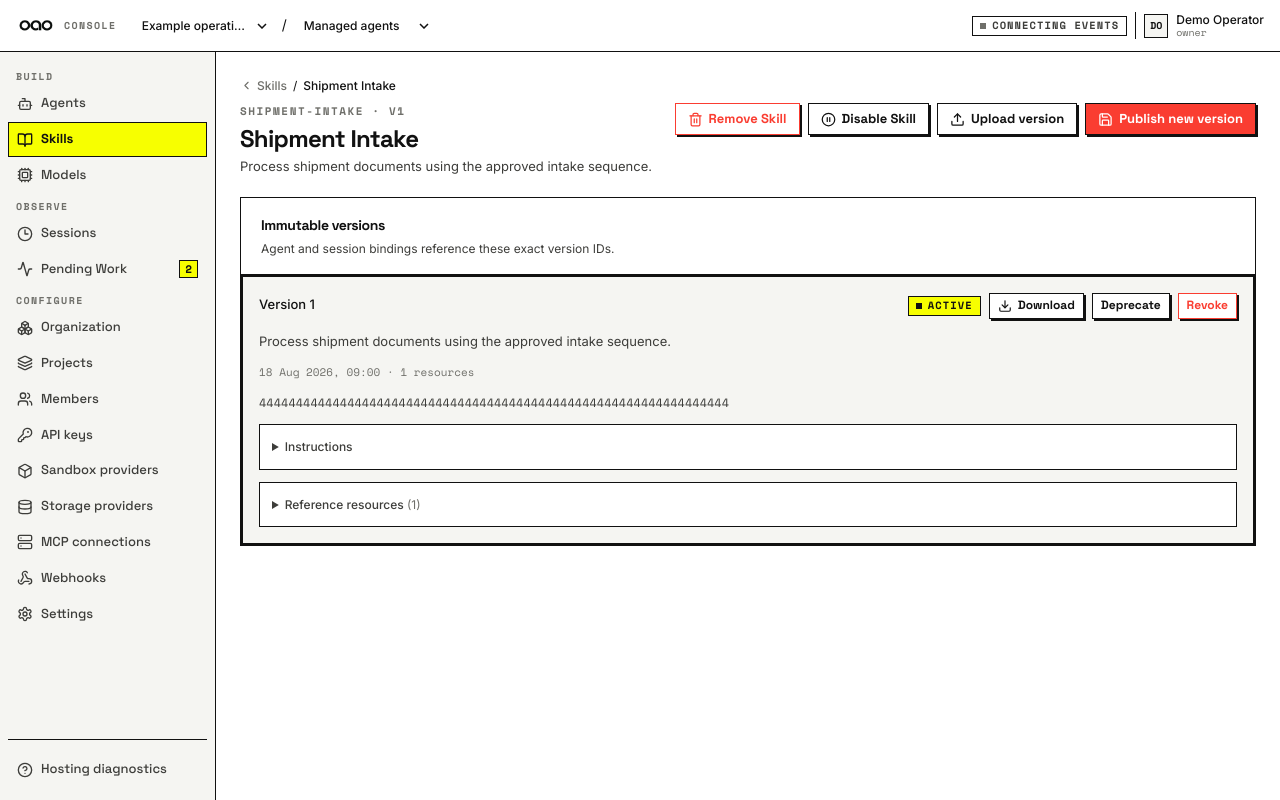
Test: management console › renders complete Skill instructions and Markdown references
expect the heading "Shipment Intake" is shown: met, box x1=240 y1=123 x2=418 y2=154
Click the heading "Instructions". click: click(319, 447)
box: x1=285 y1=439 x2=353 y2=454
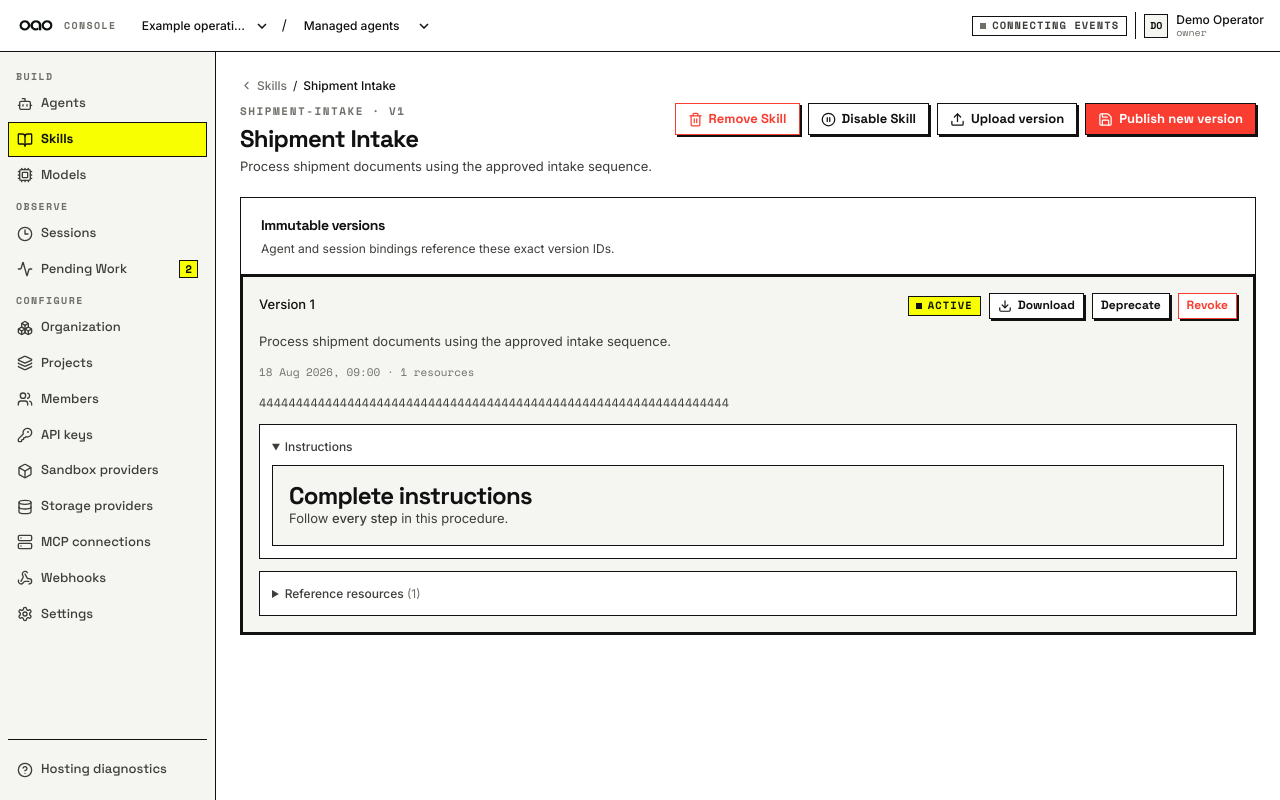
expect the heading "Complete instructions" is shown: met, box x1=289 y1=480 x2=532 y2=510
Click the heading "Reference resources (1)". click: click(353, 593)
box: x1=285 y1=586 x2=421 y2=601
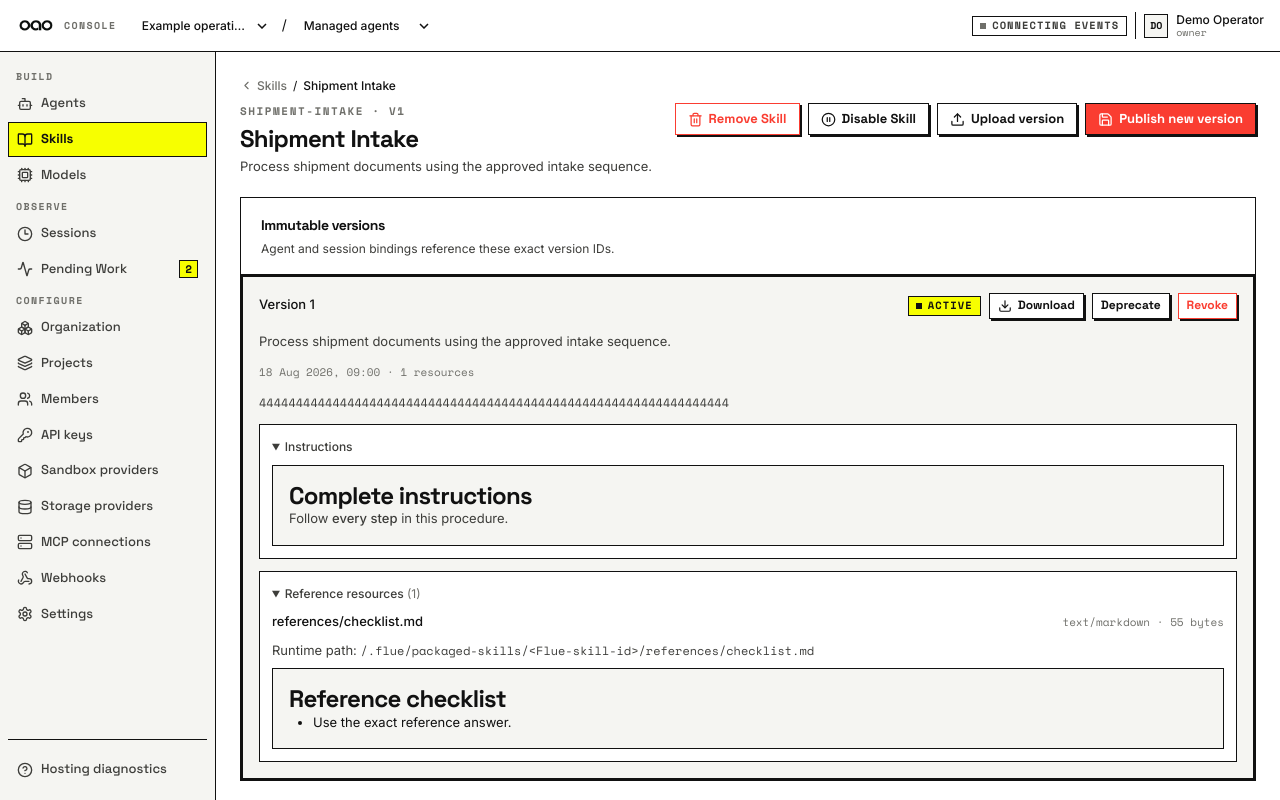
expect the heading "Reference checklist" is shown: met, box x1=289 y1=683 x2=506 y2=714
expect the list item "Use the exact reference answer." is shown: met, box x1=313 y1=714 x2=512 y2=730
